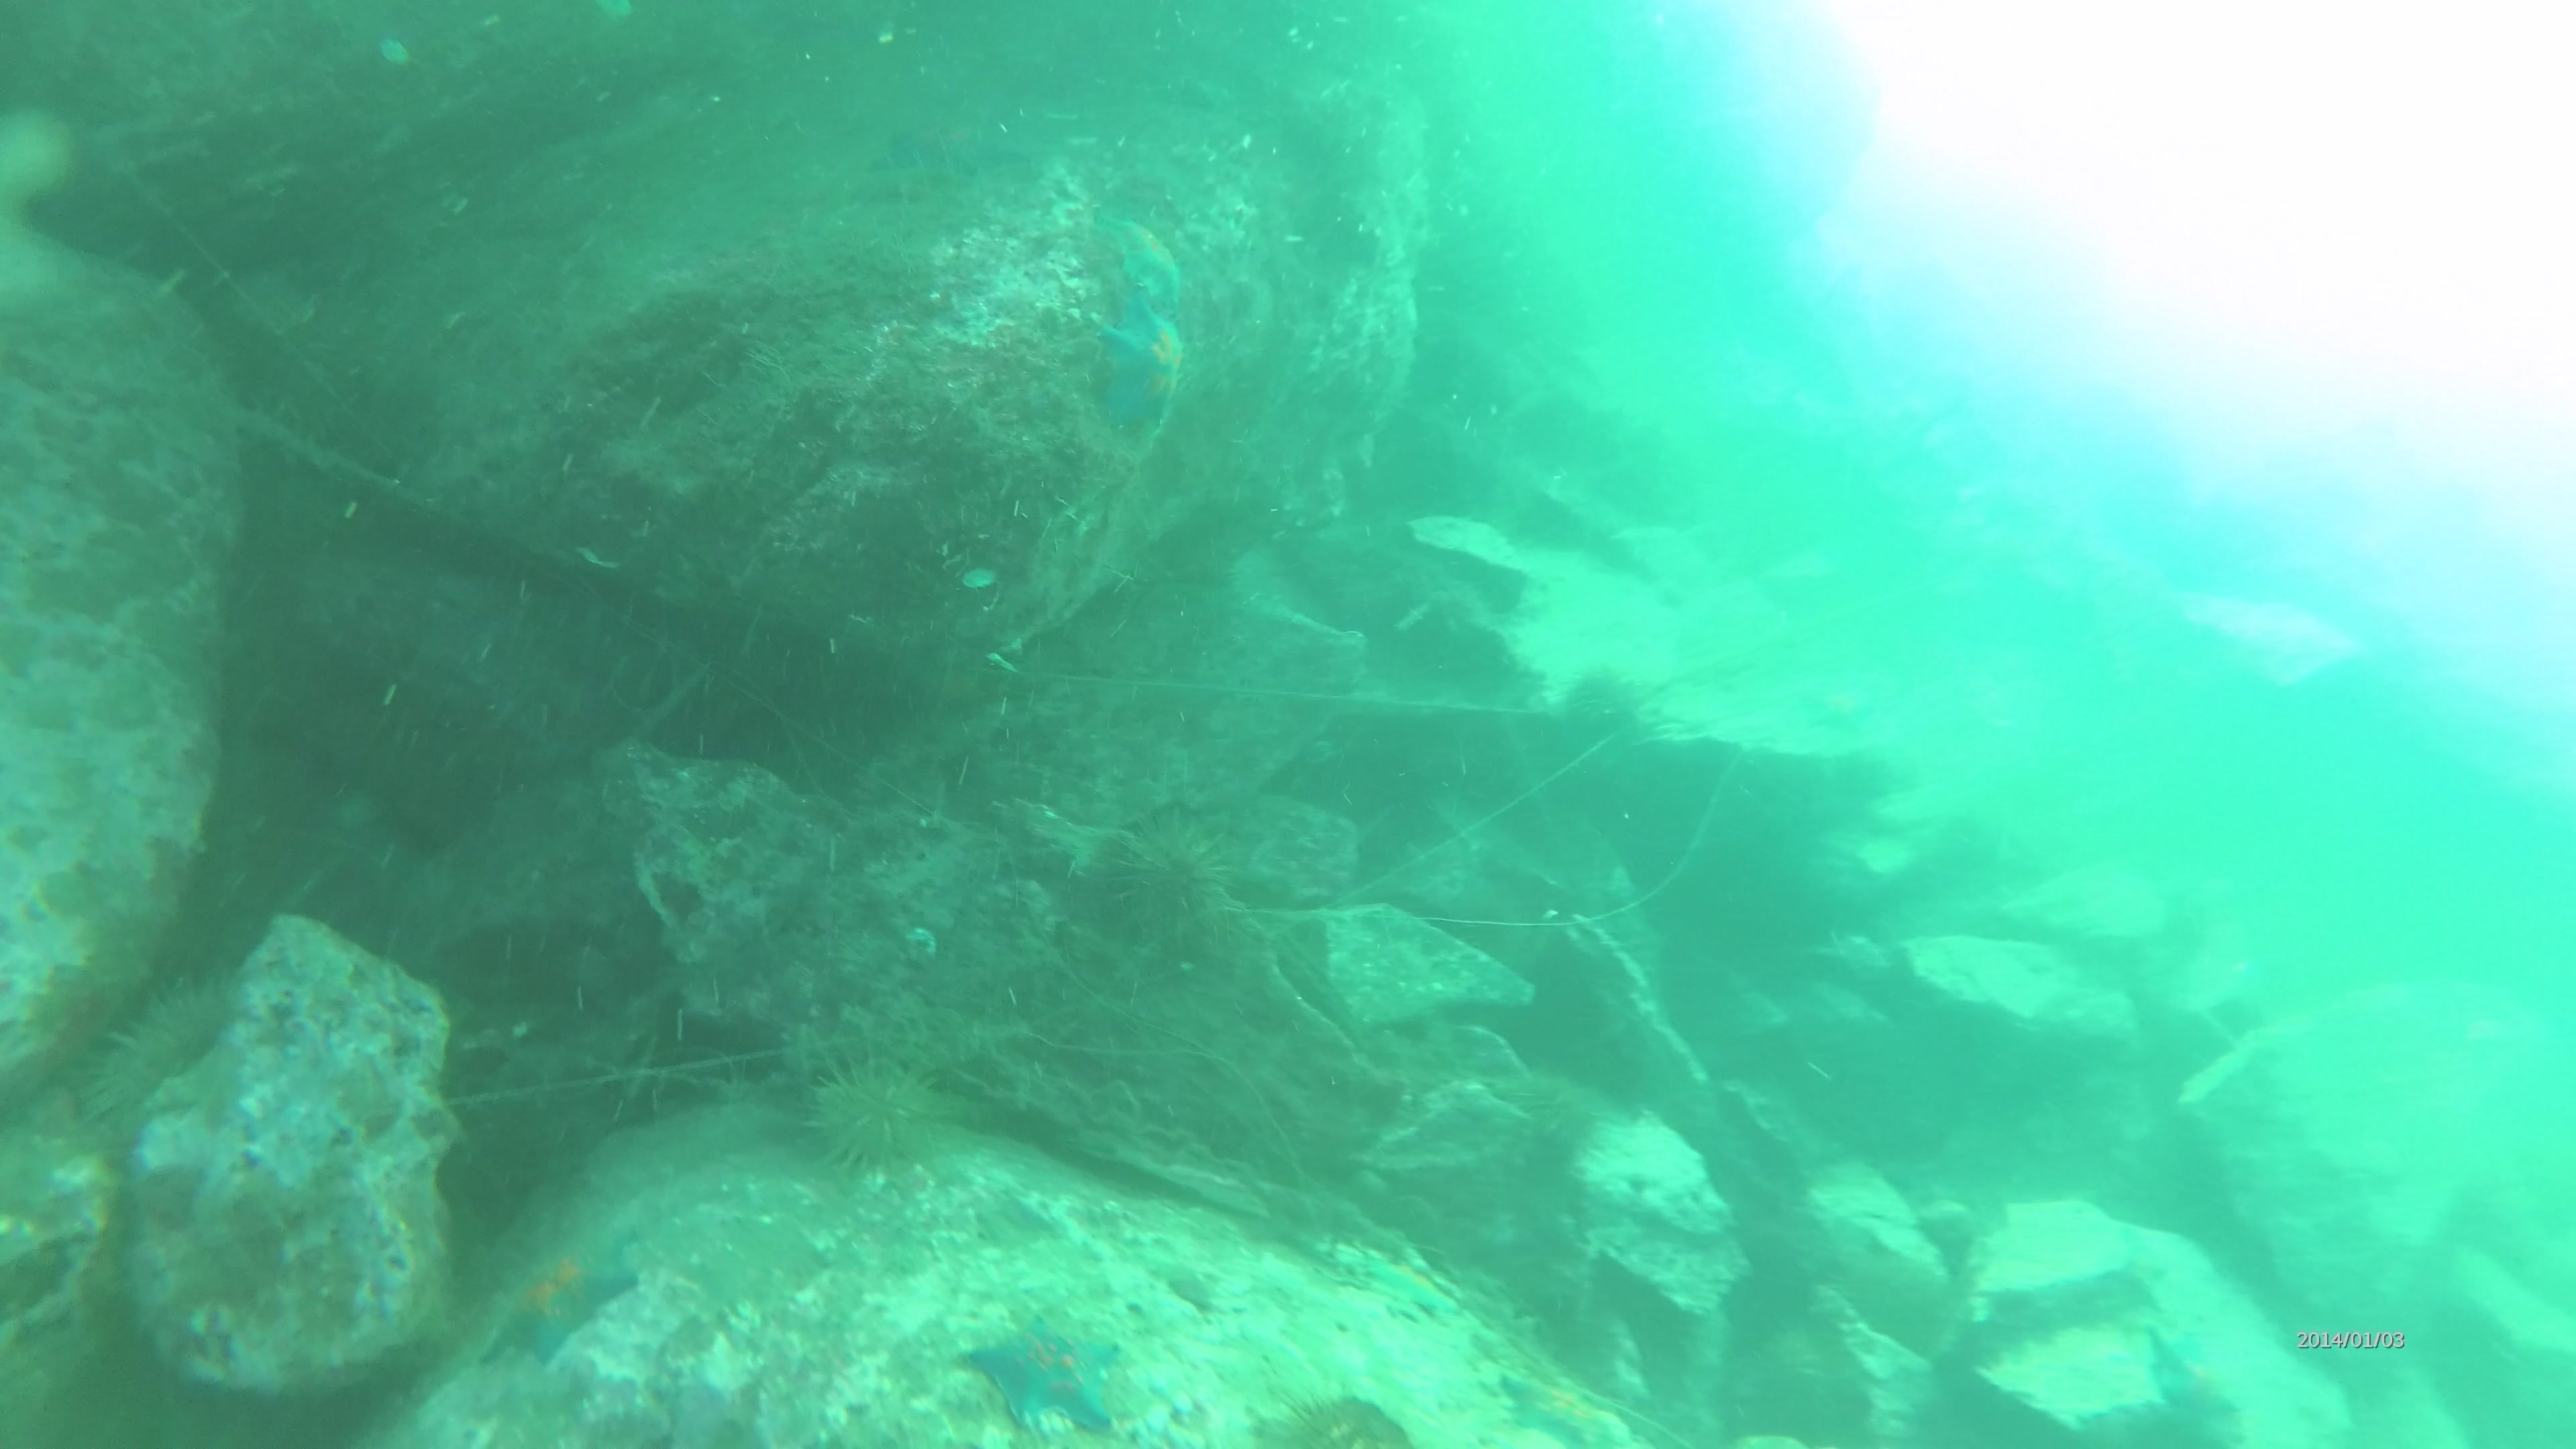echinus: (78, 970, 249, 1136), (1090, 803, 1253, 968), (794, 1049, 961, 1185), (1552, 663, 1661, 768)
starfish: (474, 1214, 648, 1369), (955, 1306, 1131, 1437), (1088, 283, 1192, 444), (2137, 1322, 2252, 1440), (1491, 1362, 1654, 1445), (1099, 200, 1194, 313)
